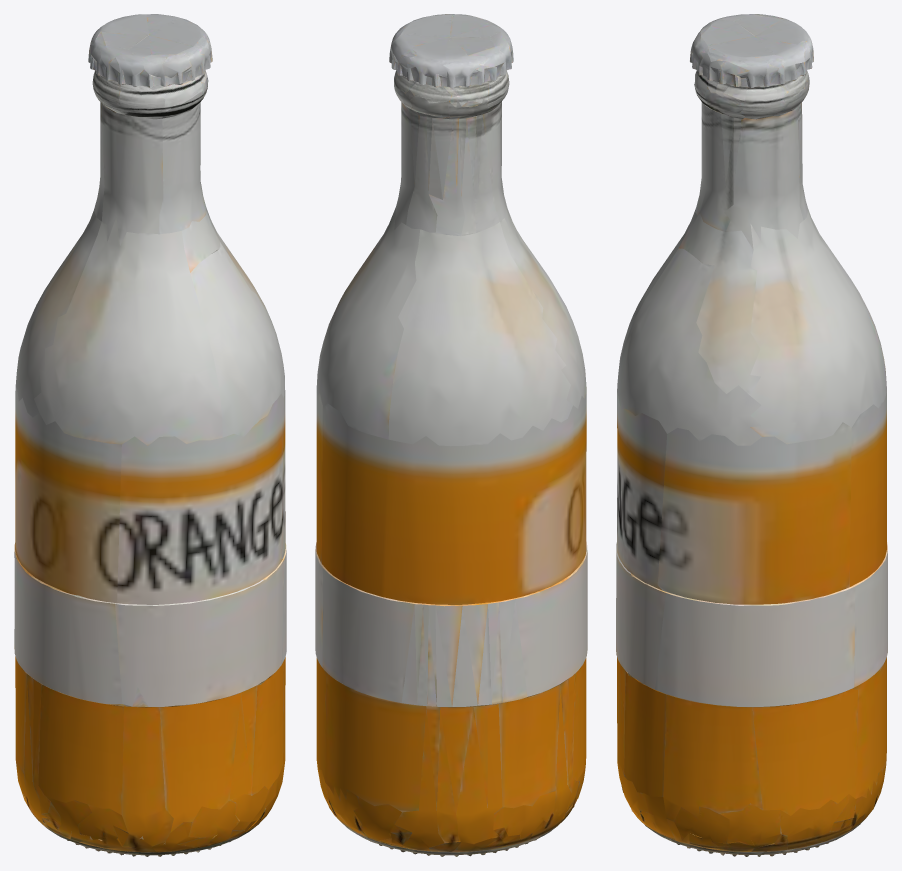
Rendered from bottle-orange.glb.
3 renders of one model, left to right at view 1: azimuth 30°, elevation 25°; view 2: azimuth 150°, elevation 25°; view 3: azimuth 270°, elevation 25°, orthographic.
Bounding box in the file's own units: 0.604 × 1.9 × 0.6036.
Materials: 1 (1 with a texture image).
